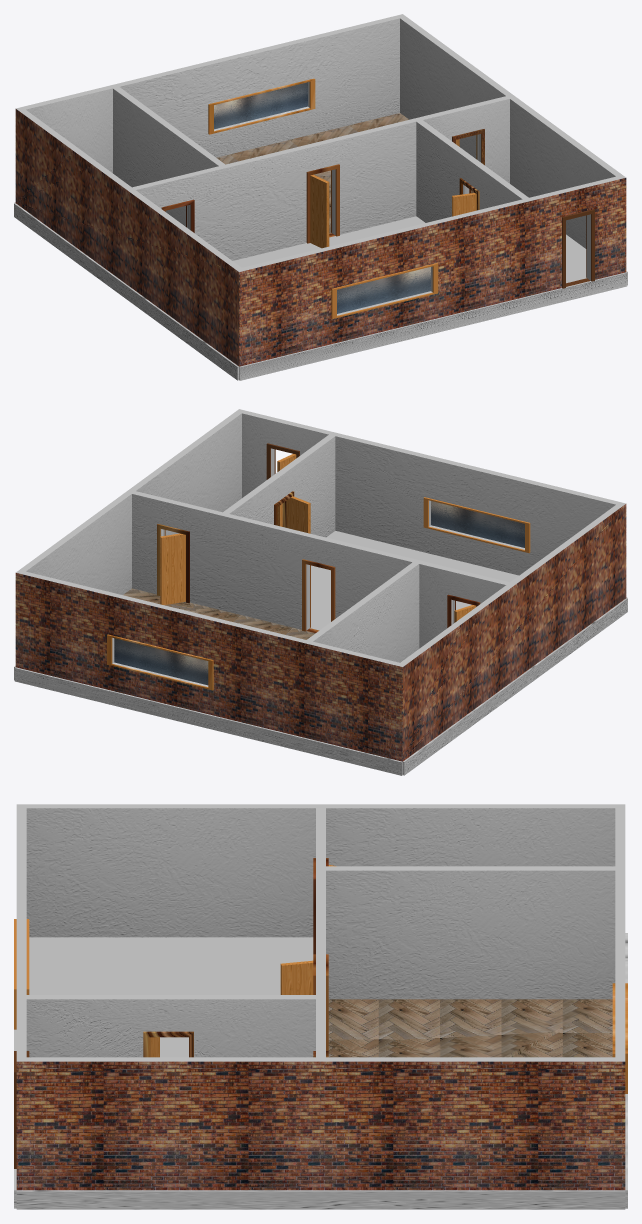
File: environment_pt_sims_final_0.fbx
3 views of the same model, one above another, from view 1: azimuth 30°, elevation 25°; view 2: azimuth 150°, elevation 25°; view 3: azimuth 270°, elevation 25° (orthographic). The views are drawn at different scales.
Visible parts, largest first — view 1: House, Door.007; view 2: House, Door.006, Door.005; view 3: House, Door.007.
Part boxes in pixels (<box>): House: <box>14,14,627,380</box>; Door.007: <box>310,174,329,248</box>; House: <box>14,409,627,775</box>; Door.006: <box>160,533,185,605</box>; Door.005: <box>286,496,310,533</box>; House: <box>14,804,627,1209</box>; Door.007: <box>280,960,313,994</box>.
Bounding box in the file's own units: 1210 × 320 × 1210.
